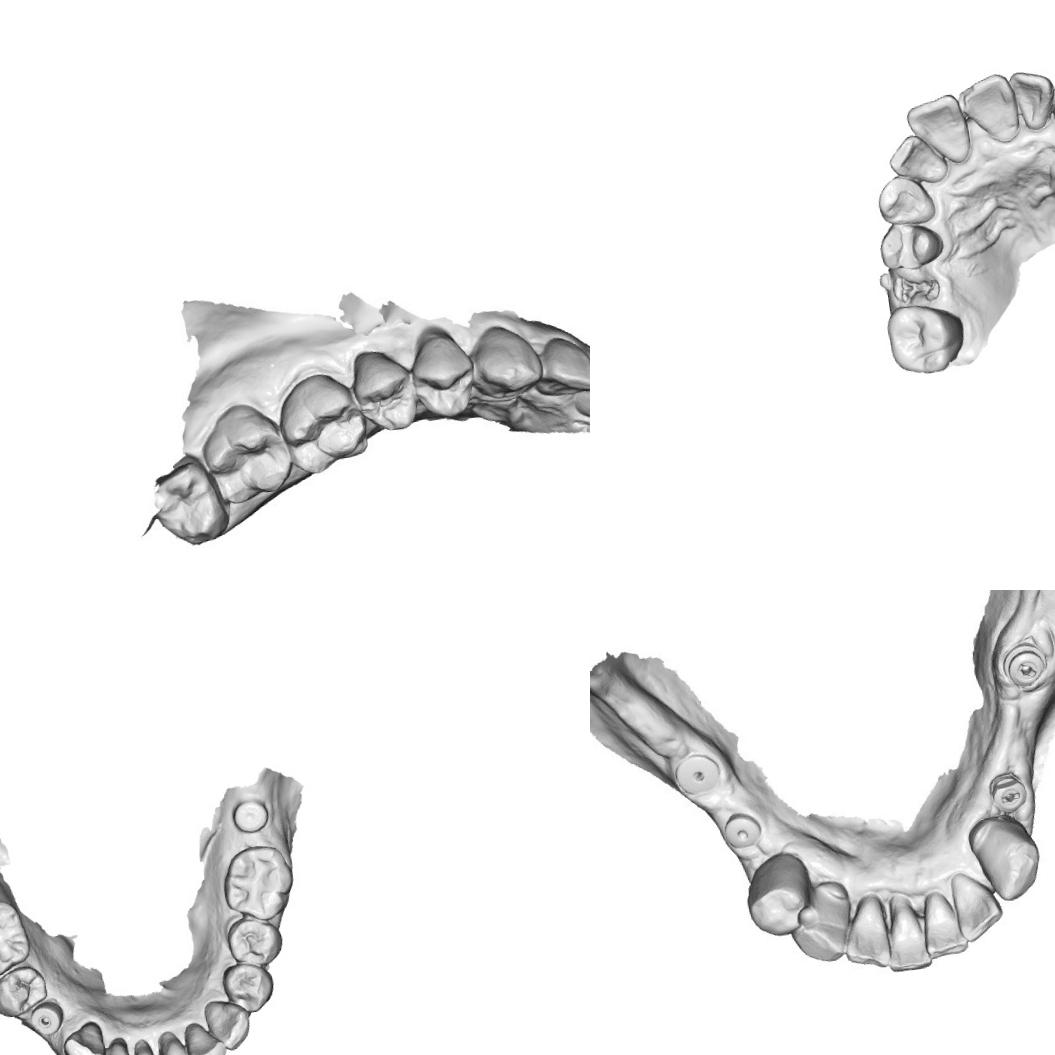canine: (964, 810, 1048, 907), (466, 321, 550, 406), (784, 876, 860, 968), (876, 174, 940, 229), (201, 994, 256, 1054), (59, 1017, 110, 1055)
implant: (670, 748, 726, 802), (720, 808, 765, 854), (228, 795, 272, 836), (28, 999, 66, 1038)
implant_minus: (998, 638, 1052, 693), (984, 768, 1030, 816)
incisor: (902, 90, 974, 169), (954, 69, 1024, 149), (837, 890, 898, 974), (947, 864, 1008, 946), (879, 896, 933, 975), (884, 128, 953, 189), (533, 332, 590, 405), (917, 885, 971, 962), (1006, 64, 1055, 134), (566, 355, 590, 440), (181, 1017, 230, 1055), (156, 1034, 200, 1055), (93, 1036, 138, 1055), (127, 1043, 167, 1055)
molar: (196, 394, 296, 506), (272, 367, 370, 478), (146, 454, 232, 550), (881, 296, 973, 381), (215, 838, 300, 926), (0, 892, 36, 983)
premolar: (738, 848, 820, 942), (347, 344, 420, 436), (410, 324, 480, 418), (874, 216, 946, 276), (221, 912, 287, 970), (218, 958, 279, 1018), (0, 962, 52, 1021)
